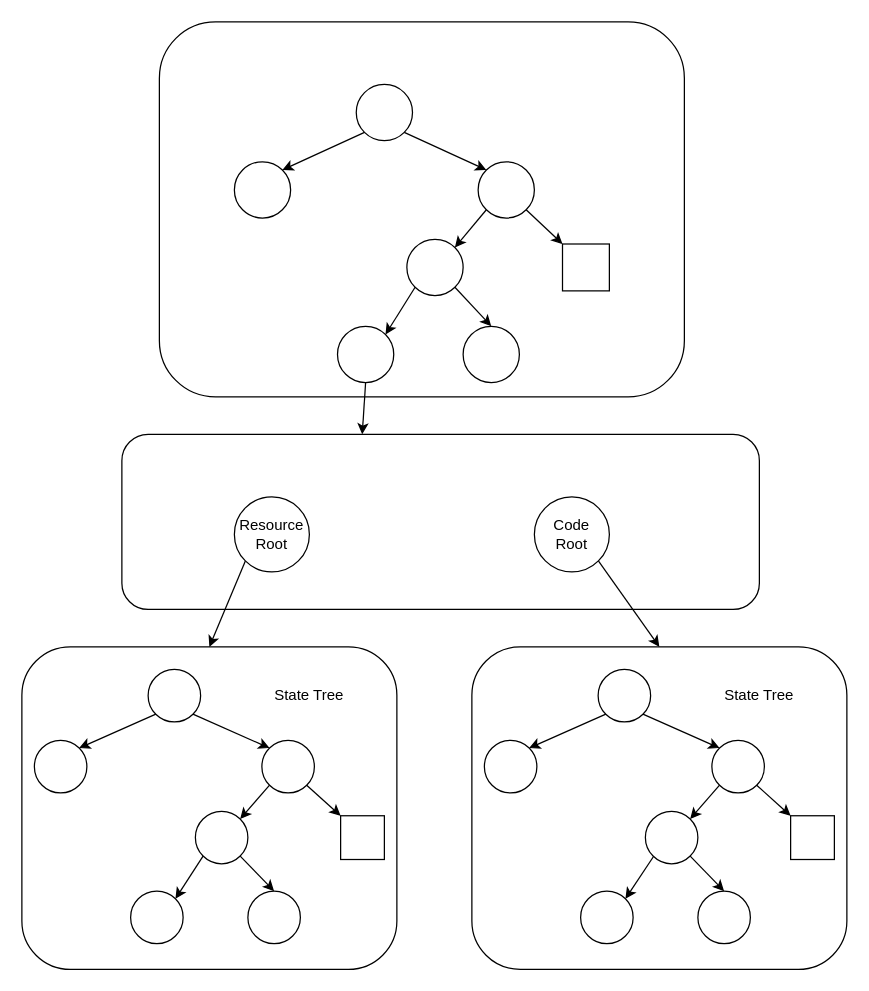
Image size: 869x991. Some labels were removed from this diagram. Here are the shapes that lost their labels. From the top down, the box of each, then its label:
(158, 21, 684, 397): Global State Tree
(121, 433, 759, 609): Account State
